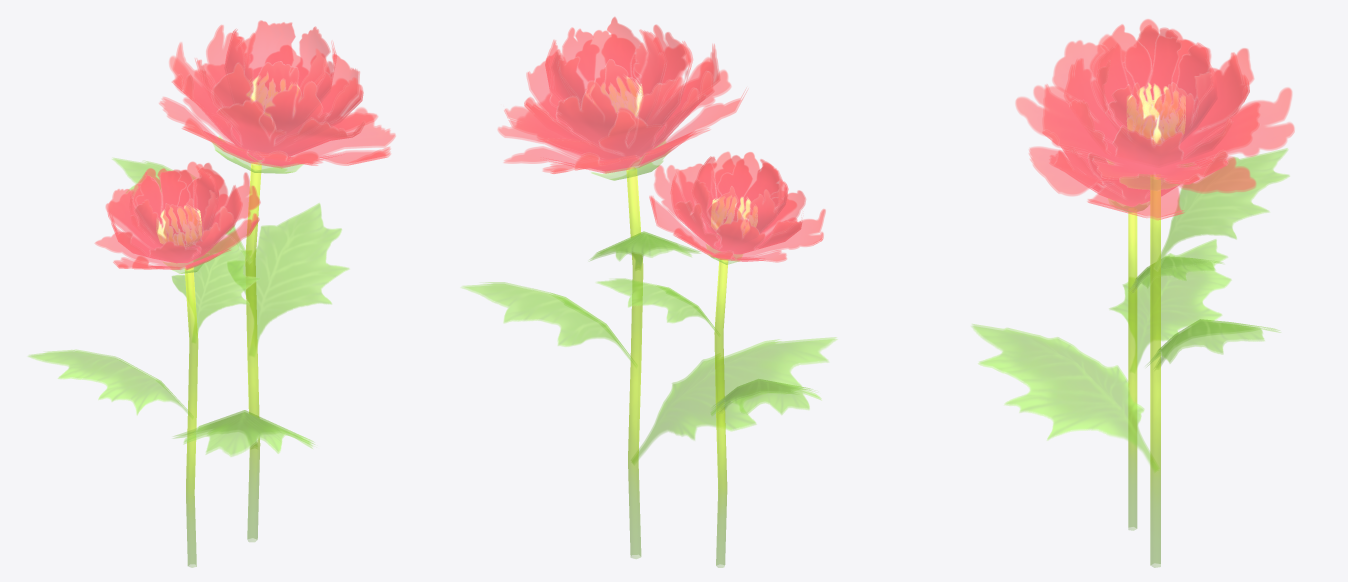
Rendered from Chinese_Rose.glb.
3 views of the same model, side by side, from view 1: azimuth 30°, elevation 25°; view 2: azimuth 150°, elevation 25°; view 3: azimuth 270°, elevation 25° (orthographic). The views are drawn at different scales.
Visible parts, largest first — view 1: chinese_rose_chinese_rose_mat_0, chinese_rose_small_chinese_rose_mat_0; view 2: chinese_rose_chinese_rose_mat_0, chinese_rose_small_chinese_rose_mat_0; view 3: chinese_rose_chinese_rose_mat_0, chinese_rose_small_chinese_rose_mat_0.
Boxes of the visible parts, x1,y1,x2,y2 form: chinese_rose_chinese_rose_mat_0: (112,20,395,541); chinese_rose_small_chinese_rose_mat_0: (28,161,260,567); chinese_rose_chinese_rose_mat_0: (461,17,837,558); chinese_rose_small_chinese_rose_mat_0: (596,151,825,567); chinese_rose_chinese_rose_mat_0: (971,19,1294,567); chinese_rose_small_chinese_rose_mat_0: (1050,146,1231,530).
Bounding box in the file's own units: 2.18 × 2.73 × 1.93.
Materials: 1 (1 with a texture image).
